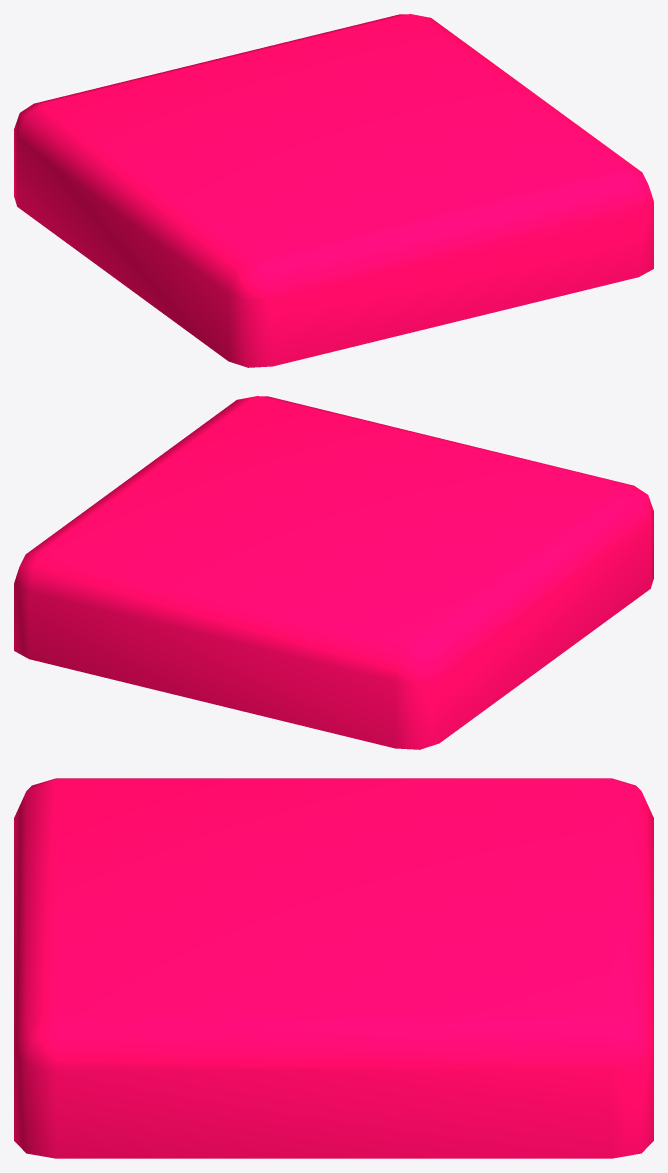
File: button_square_red.glb
3 renders of one model, top to bottom at view 1: azimuth 30°, elevation 25°; view 2: azimuth 150°, elevation 25°; view 3: azimuth 270°, elevation 25°, orthographic. The views are drawn at different scales.
Parts seen in each view (by area): view 1: Squareutton.001; view 2: Squareutton.001; view 3: Squareutton.001.
Part boxes in pixels (<box>): Squareutton.001: <box>14,14,653,367</box>; Squareutton.001: <box>14,396,653,749</box>; Squareutton.001: <box>14,778,653,1158</box>.
Size of what is drawn, in the model's own units: 0.1845 by 0.0403 by 0.1845.
1 material, 1 textured.
